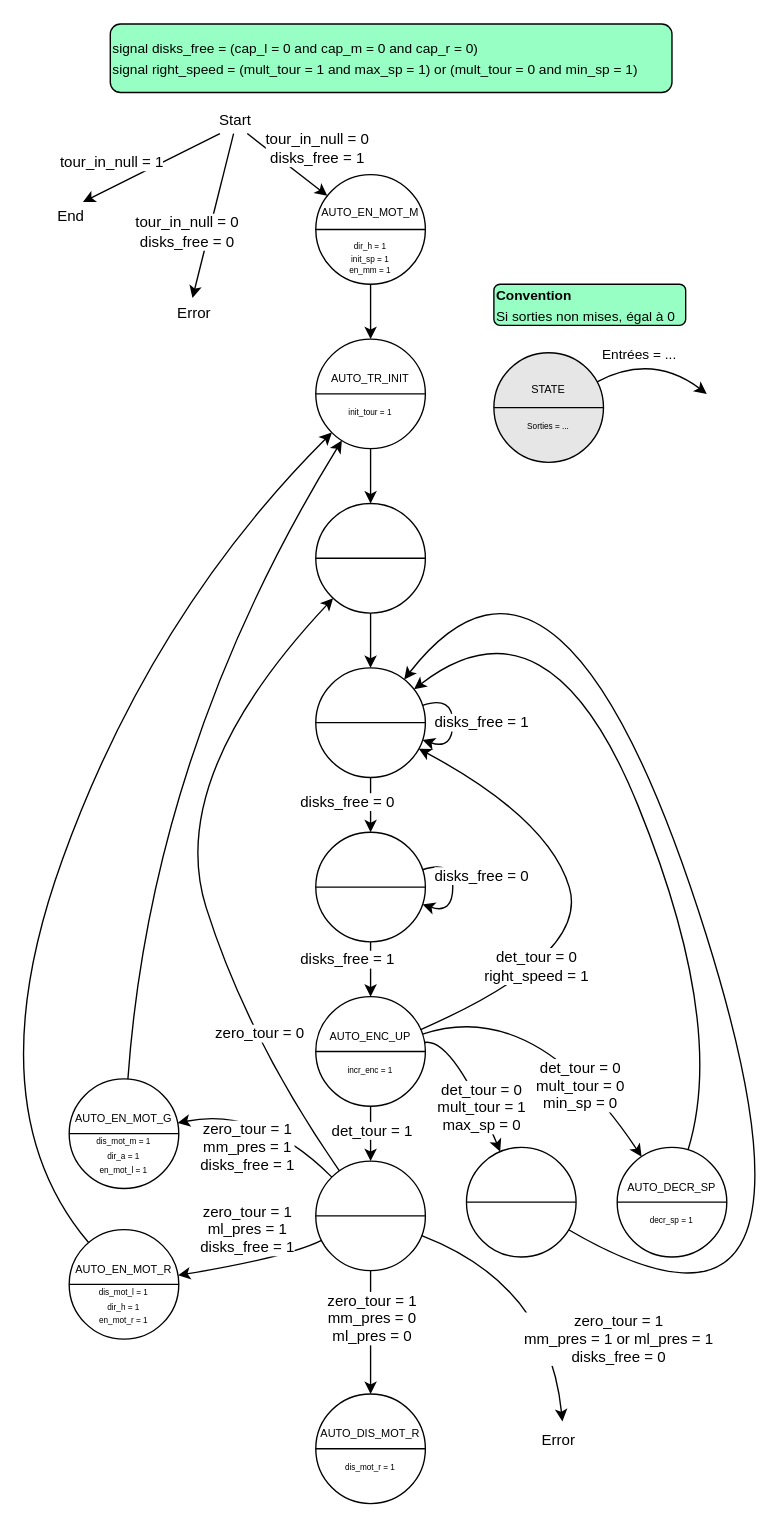
This 780x1528 diagram has some shape labels left out. Here are the shapes that lost their labels. From the top down, the centre of each, then its label:
At [369,557]: "AUTO_ENC_INIT init_enc = 1".
At [369,722]: "AUTO_WT_DOWN".
At [369,886]: "AUTO_ENC_DOWN".
At [369,1215]: "AUTO_DECR_TR decr_tour = 1".
At [520,1201]: "AUTO_INCR_SP incr_sp = 1".
